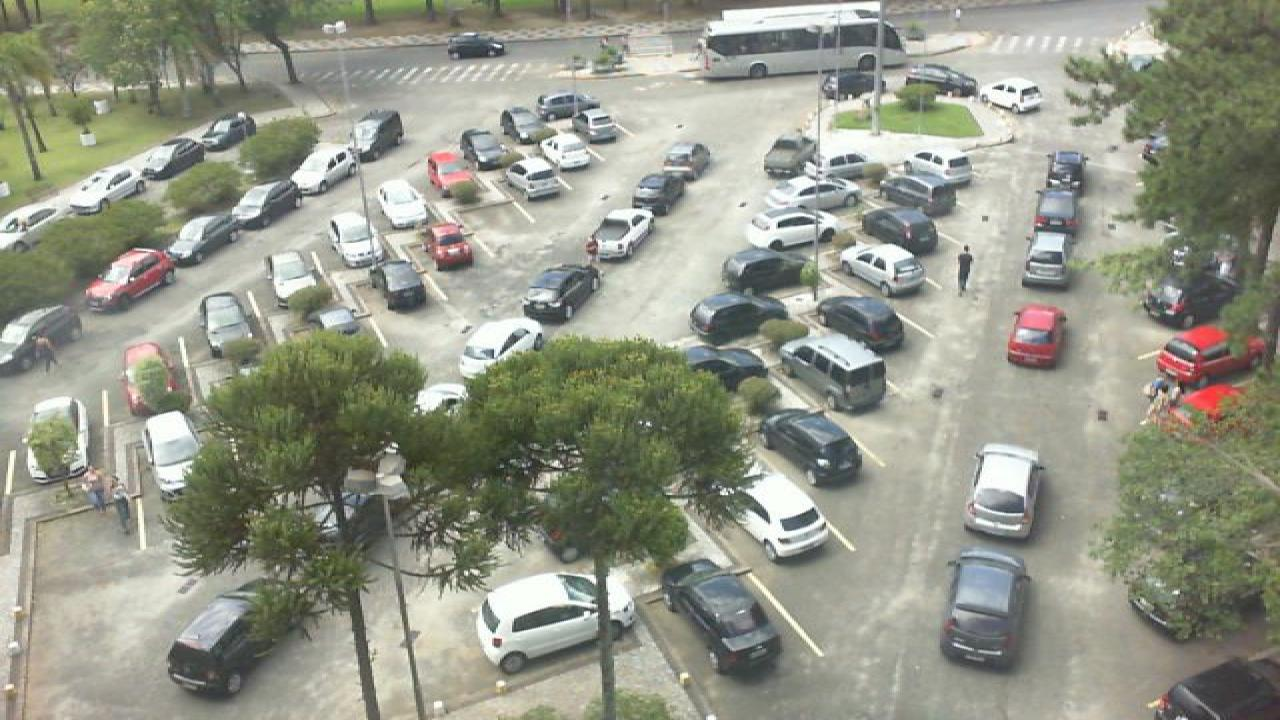Car: (472, 572, 642, 676), (658, 556, 786, 677), (166, 579, 286, 700), (936, 550, 1032, 670), (722, 469, 830, 564), (778, 335, 890, 412), (1154, 324, 1270, 394), (760, 408, 864, 486), (964, 443, 1046, 541), (1140, 262, 1244, 329), (24, 394, 94, 486), (84, 248, 176, 312), (142, 410, 204, 502), (120, 341, 192, 417), (688, 292, 788, 346), (458, 318, 544, 380), (816, 294, 906, 353), (520, 264, 602, 328), (680, 344, 772, 397), (0, 304, 84, 361), (838, 243, 926, 297), (64, 166, 150, 216), (858, 204, 940, 256), (1004, 304, 1068, 369), (228, 180, 302, 236), (720, 246, 808, 292), (744, 210, 840, 251), (166, 215, 240, 268), (198, 292, 252, 364), (290, 145, 360, 200), (588, 207, 656, 263), (2, 196, 82, 242), (764, 178, 864, 214), (130, 138, 210, 182), (266, 250, 322, 309), (880, 173, 956, 216), (330, 210, 384, 268), (370, 260, 426, 315), (506, 156, 572, 202), (1022, 231, 1074, 288), (350, 109, 406, 161), (904, 62, 980, 100), (374, 180, 430, 231), (762, 132, 818, 180), (630, 171, 686, 216), (424, 150, 474, 200), (422, 222, 476, 268), (194, 111, 256, 151), (978, 78, 1046, 114), (908, 151, 974, 188), (1032, 187, 1082, 235), (810, 151, 884, 183), (660, 140, 712, 184), (542, 134, 602, 172), (460, 128, 508, 174), (532, 91, 604, 118), (572, 107, 622, 145), (1044, 148, 1086, 192), (498, 108, 544, 147)
